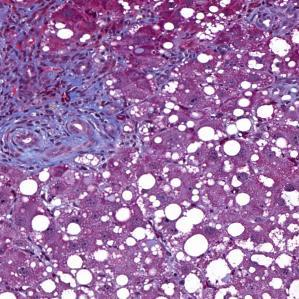fibrosis: (0, 52, 118, 164), (0, 0, 54, 46), (248, 0, 299, 39)
